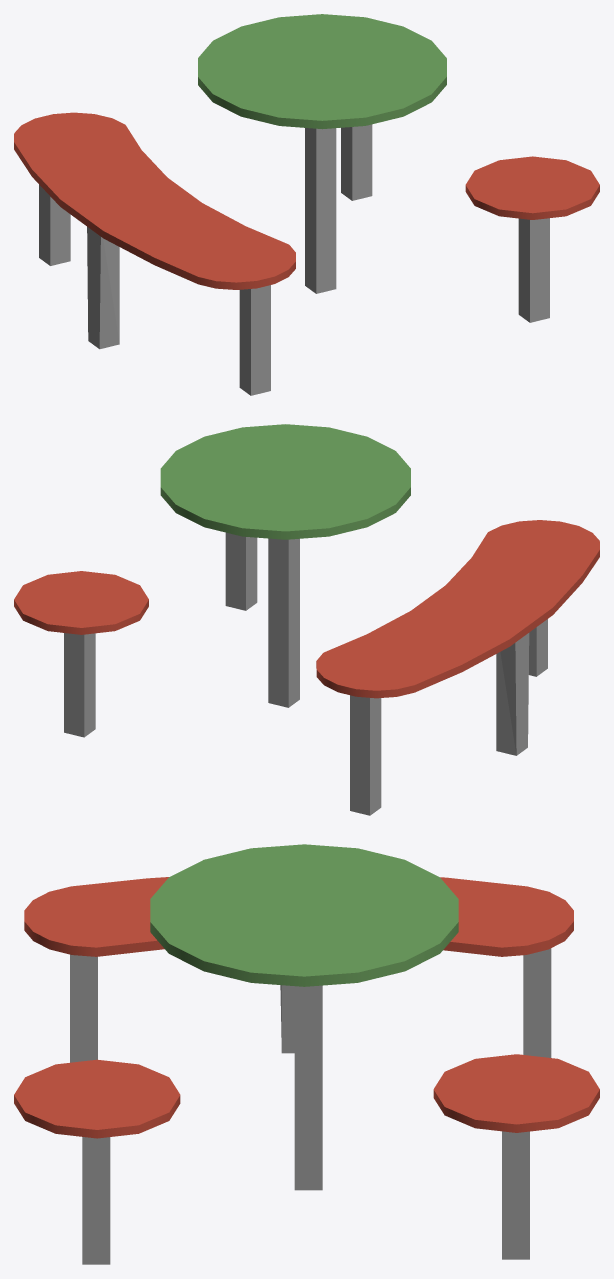
File: SM_Table_02.fbx
3 renders of one model, top to bottom at view 1: azimuth 30°, elevation 25°; view 2: azimuth 150°, elevation 25°; view 3: azimuth 270°, elevation 25°, orthographic. The views are drawn at different scales.
Visible parts, largest first — view 1: SM_Table_02; view 2: SM_Table_02; view 3: SM_Table_02.
Boxes of the visible parts, <box> form: SM_Table_02: <box>14,14,599,395</box>; SM_Table_02: <box>14,424,599,815</box>; SM_Table_02: <box>14,844,599,1264</box>.
Size of the model in its own units: 133 by 65.94 by 128.
